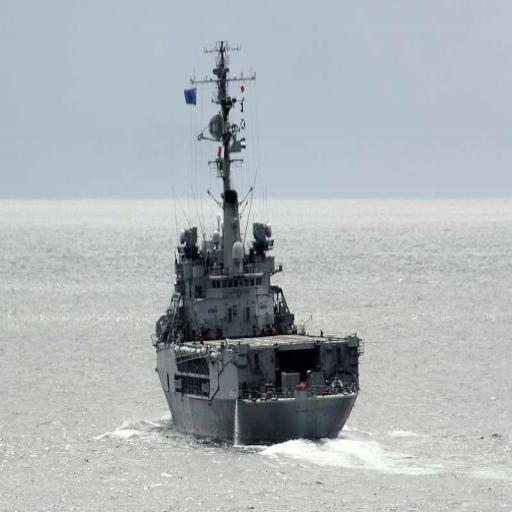Portanaves: (148, 21, 377, 448)
